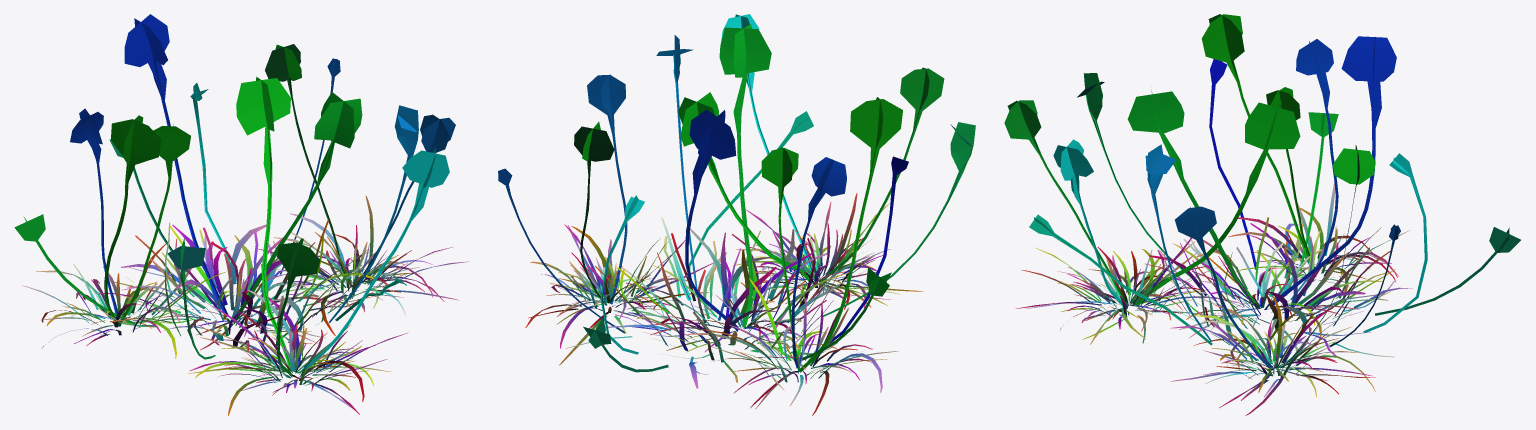
File: Sea_Thrift_vkbgaihha_Mid_vkbgaihha_VarA_LOD0.fbx
The picture shows the model from 3 angles, left to right: view 1: azimuth 30°, elevation 25°; view 2: azimuth 150°, elevation 25°; view 3: azimuth 270°, elevation 25°; orthographic projection. The views are drawn at different scales.
Visible parts, largest first — view 1: _5bz2_VarA_LOD1; view 2: _5bz2_VarA_LOD1; view 3: _5bz2_VarA_LOD1.
Boxes of the visible parts, x1,y1,x2,y2 form: _5bz2_VarA_LOD1: (14, 14, 469, 415); _5bz2_VarA_LOD1: (498, 14, 975, 415); _5bz2_VarA_LOD1: (1004, 14, 1520, 415).
Bounding box in the file's own units: 31.13 × 22.47 × 36.93.
